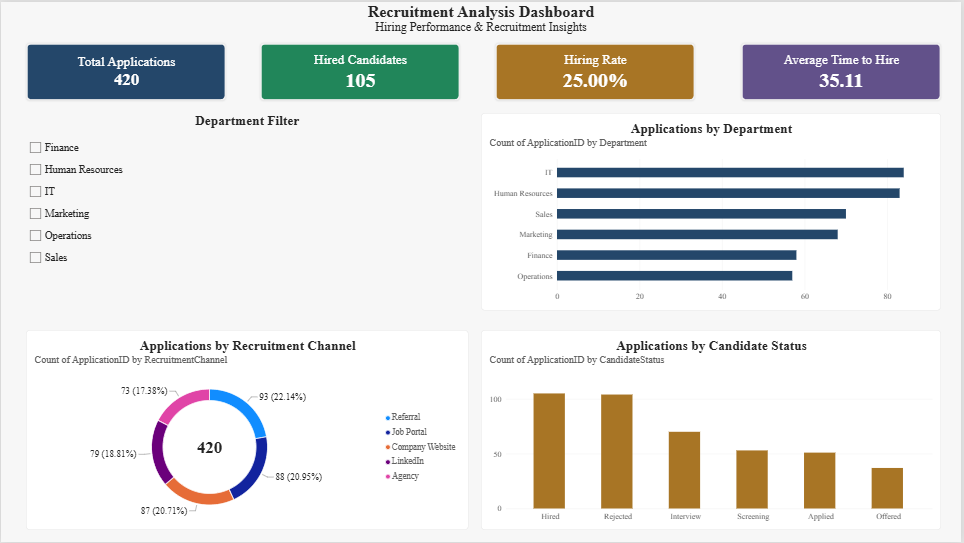

This screenshot's page, from the dashboard's own definition file:
{"tool":"powerbi","page":{"name":"Recruitment Analysis","canvas":[1920,1080],"ordinal":1},"visuals":[{"type":"cardVisual","fields":{"Data":["Recruitment.Total Applications"]},"box":[50,82.5,400,115],"z":0},{"type":"cardVisual","fields":{"Data":["Recruitment.Hired Candidates"]},"box":[517.5,82.5,400,115],"z":1000},{"type":"cardVisual","fields":{"Data":["Recruitment.Hiring Rate"]},"box":[987.5,82.5,400,115],"z":2000},{"type":"cardVisual","fields":{"Data":["Recruitment.Average Time to Hire"]},"box":[1480,82.5,400,115],"z":3000},{"type":"textbox","box":[0,0,1920,82.5],"z":4000},{"type":"clusteredBarChart","title":"Applications by Department","fields":{"Category":["Recruitment.Department"],"Y":["CountNonNull(Recruitment.ApplicationID)"]},"box":[960,222.5,920,395],"z":5000},{"type":"donutChart","title":"Applications by Recruitment Channel","fields":{"Category":["Recruitment.RecruitmentChannel"],"Y":["CountNonNull(Recruitment.ApplicationID)"]},"box":[50,655,885,400],"z":5001},{"type":"clusteredColumnChart","title":"Applications by Candidate Status","fields":{"Category":["Recruitment.CandidateStatus"],"Y":["CountNonNull(Recruitment.ApplicationID)"]},"box":[960,655,920,400],"z":5002},{"type":"slicer","title":"Department Filter","fields":{"Values":["Recruitment.Department"]},"box":[50,222.5,885,395],"z":5003}]}

Visuals, with their boxes in screenshot pixels (x1, y1, x2, y2), scaled from the page's 1920x1080 canvas onto the 964x543 screenshot:
cardVisual - Recruitment.Total Applications: crop(25, 41, 226, 99)
cardVisual - Recruitment.Hired Candidates: crop(260, 41, 461, 99)
cardVisual - Recruitment.Hiring Rate: crop(496, 41, 697, 99)
cardVisual - Recruitment.Average Time to Hire: crop(743, 41, 944, 99)
textbox: crop(0, 0, 963, 41)
"Applications by Department" clusteredBarChart: crop(482, 112, 944, 310)
"Applications by Recruitment Channel" donutChart: crop(25, 329, 469, 530)
"Applications by Candidate Status" clusteredColumnChart: crop(482, 329, 944, 530)
"Department Filter" slicer: crop(25, 112, 469, 310)
